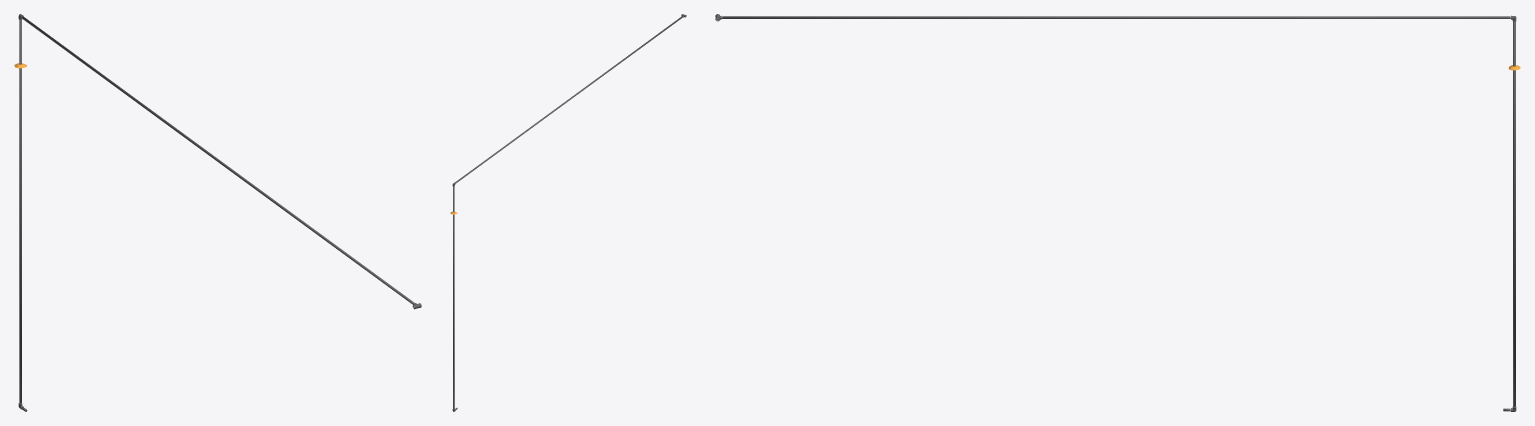
File: pipes_gas__water_heater-garage_tankless+garage_tankless_noncondensing.glb
The picture shows the model from 3 angles, left to right: view 1: azimuth 30°, elevation 25°; view 2: azimuth 150°, elevation 25°; view 3: azimuth 270°, elevation 25°; orthographic projection. The views are drawn at different scales.
Visible parts, largest first — view 1: pipe_gas_drop_wh_tankless; view 2: pipe_gas_drop_wh_tankless; view 3: pipe_gas_drop_wh_tankless.
Boxes of the visible parts, x1,y1,x2,y2 form: pipe_gas_drop_wh_tankless: (19, 16, 414, 411); pipe_gas_drop_wh_tankless: (453, 16, 683, 409); pipe_gas_drop_wh_tankless: (722, 16, 1515, 411).
Size of the model in its own units: 0.1008 by 3.45 by 6.36.
